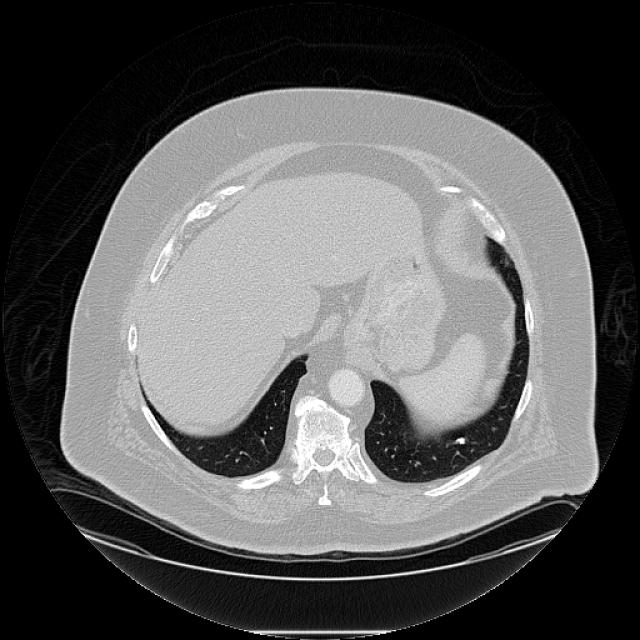nodule: (451, 430, 469, 448)
